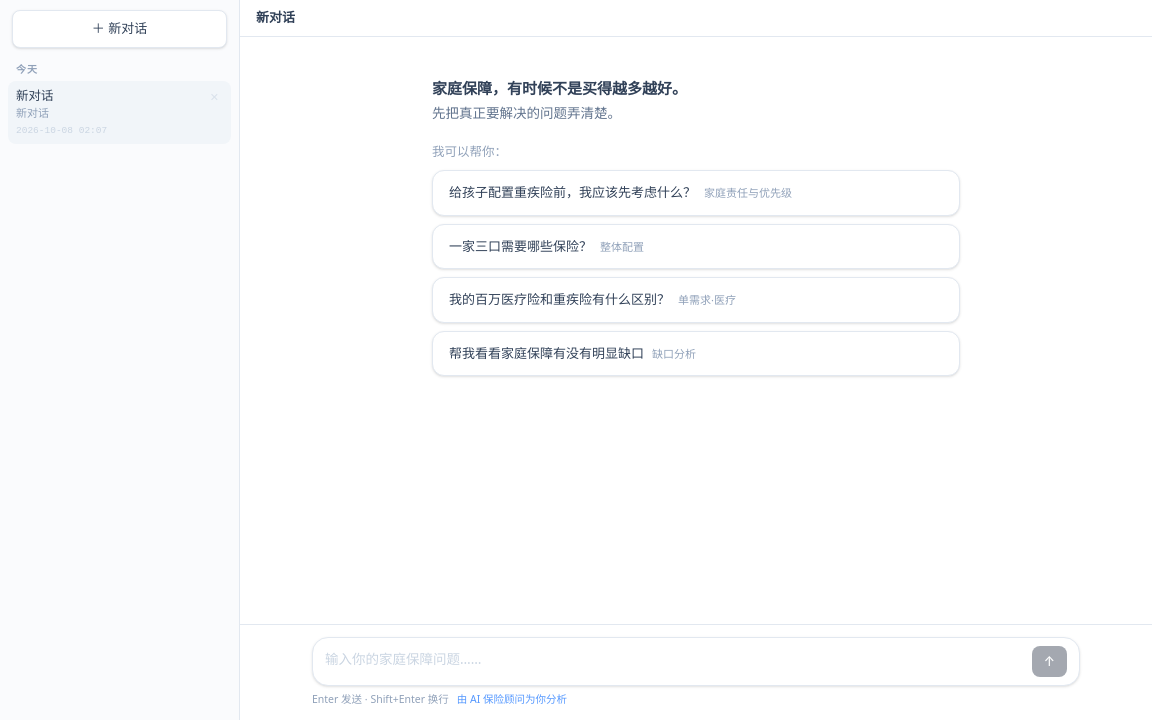
Scenario: agent-unavailable banner (consumer copy only) › a poisoned 503 detail never reaches the consumer DOM
The width and height of the screenshot is (1152, 720).
In the text box: (674, 663) left=325, top=649, right=1024, bottom=677, type "帮我看看重疾险怎么选"
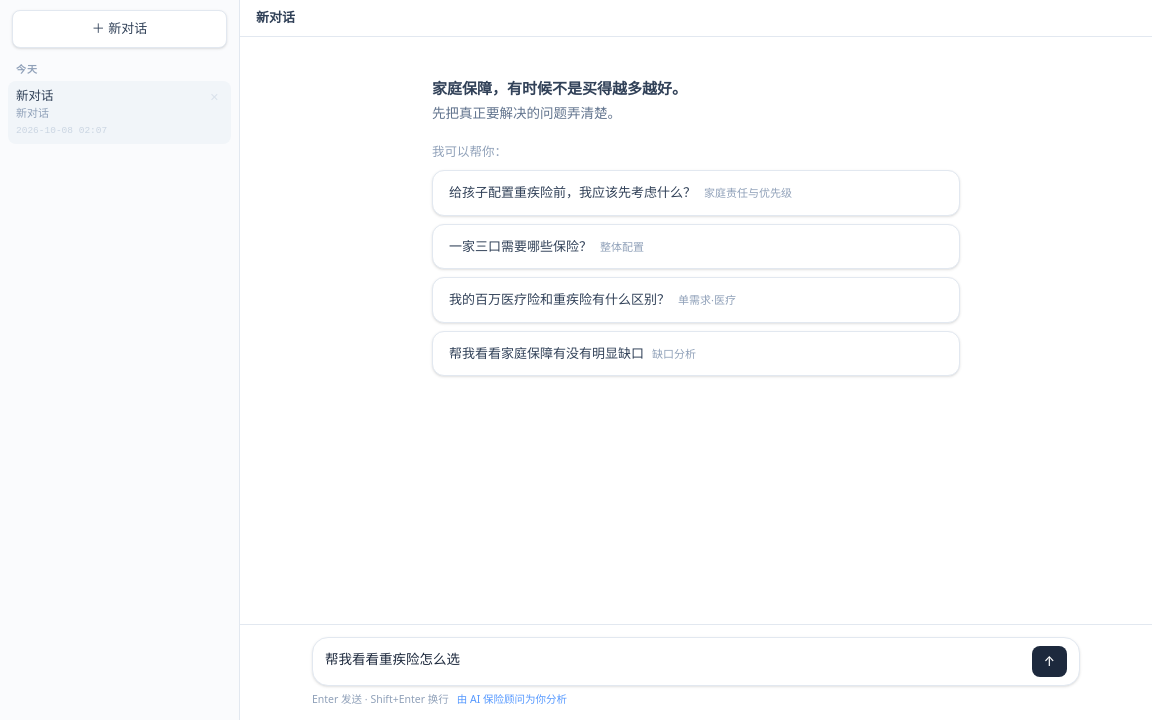
Press Enter in the text box, box left=325, top=649, right=1024, bottom=677
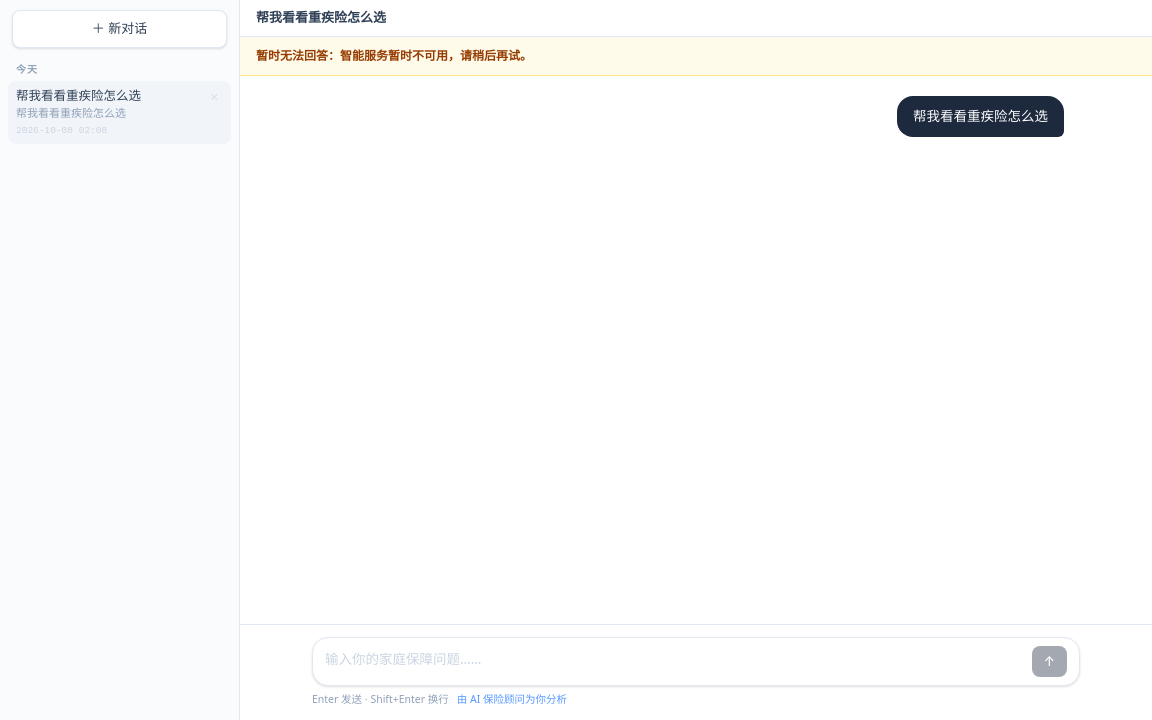
Expected: the element with test id "agent-unavailable" is shown, left=240, top=36, right=1151, bottom=76
